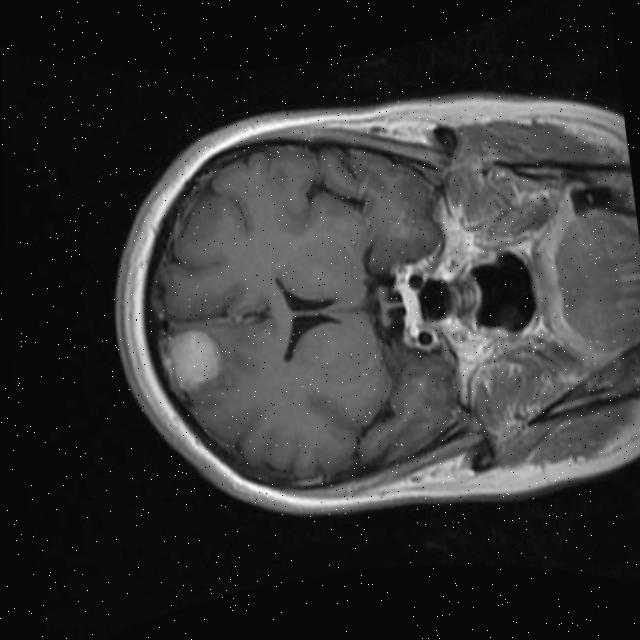Meningioma: (153, 323, 229, 396)
Pituitary: (395, 290, 425, 326)
